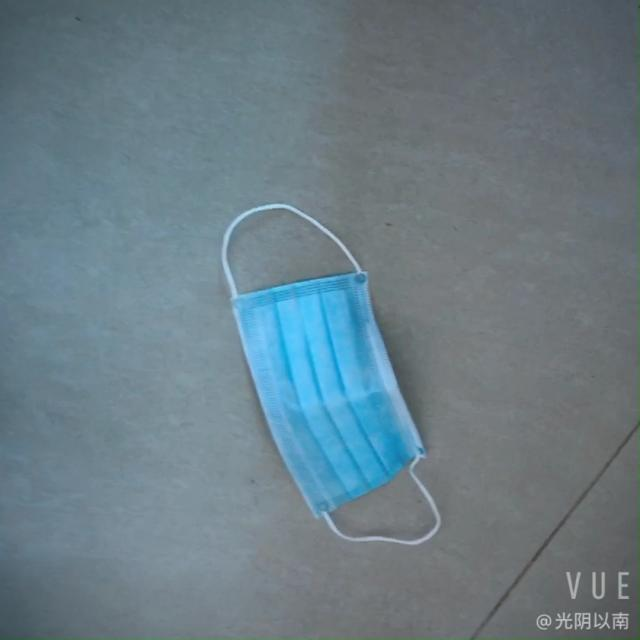face mask: (230, 264, 423, 538)
